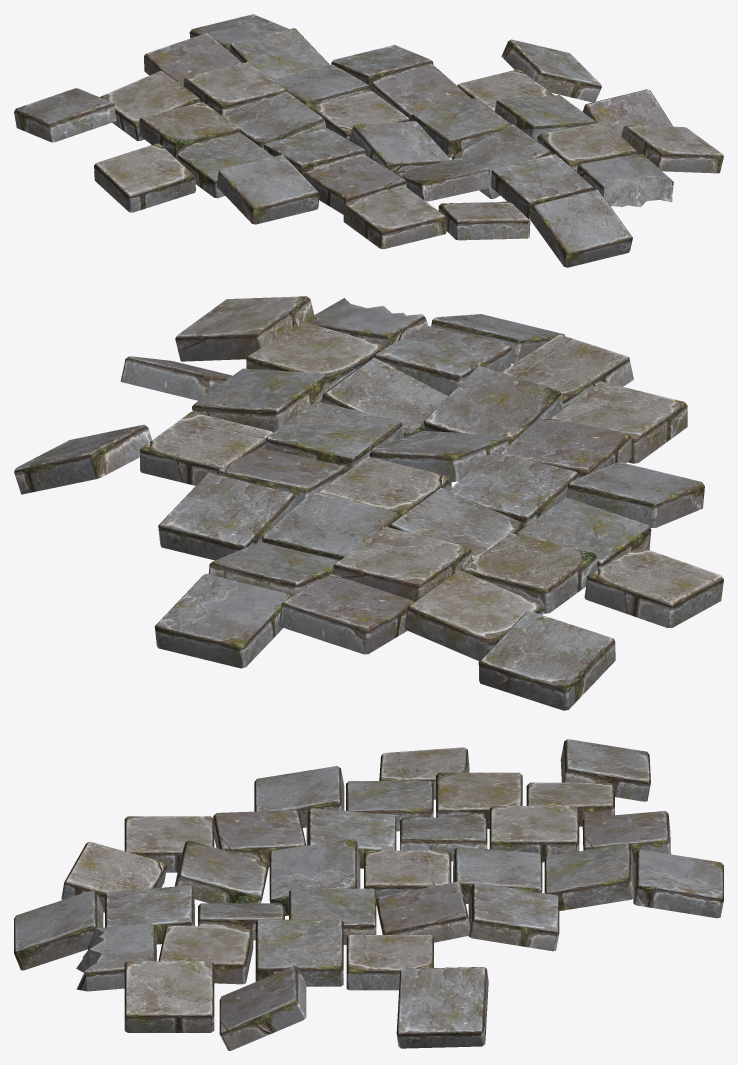
The picture shows the model from 3 angles, top to bottom: view 1: azimuth 30°, elevation 25°; view 2: azimuth 150°, elevation 25°; view 3: azimuth 270°, elevation 25°; orthographic projection. The views are drawn at different scales.
Parts seen in each view (by area): view 1: SM_Greathall_Floor_8x8_Broken_02_LOD0; view 2: SM_Greathall_Floor_8x8_Broken_02_LOD0; view 3: SM_Greathall_Floor_8x8_Broken_02_LOD0.
Part boxes in pixels (bbox=[...]): SM_Greathall_Floor_8x8_Broken_02_LOD0: bbox=[14, 14, 723, 267]; SM_Greathall_Floor_8x8_Broken_02_LOD0: bbox=[14, 296, 723, 710]; SM_Greathall_Floor_8x8_Broken_02_LOD0: bbox=[14, 739, 723, 1050].
Bounding box in the file's own units: 6.99 × 0.7782 × 7.77.
1 material, 1 textured.
